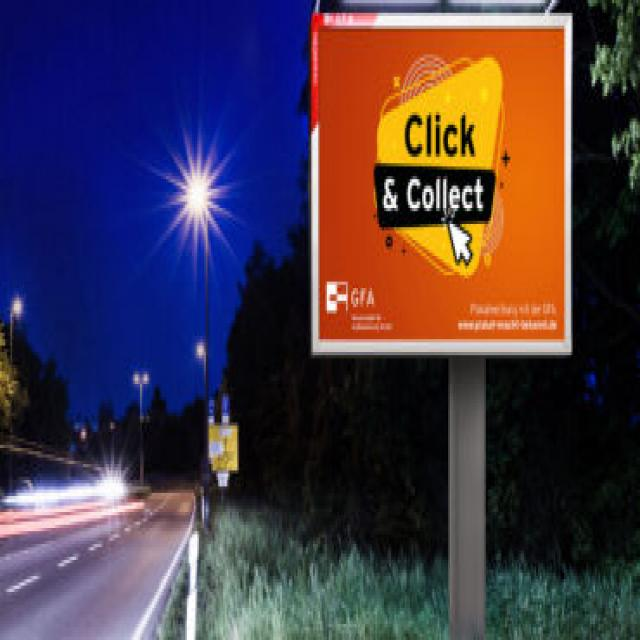Werbetafel frei: (306, 11, 578, 371)
